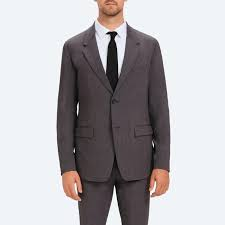F_M_suit jacket: (51, 19, 178, 188)
F_tie: (101, 26, 122, 82)
